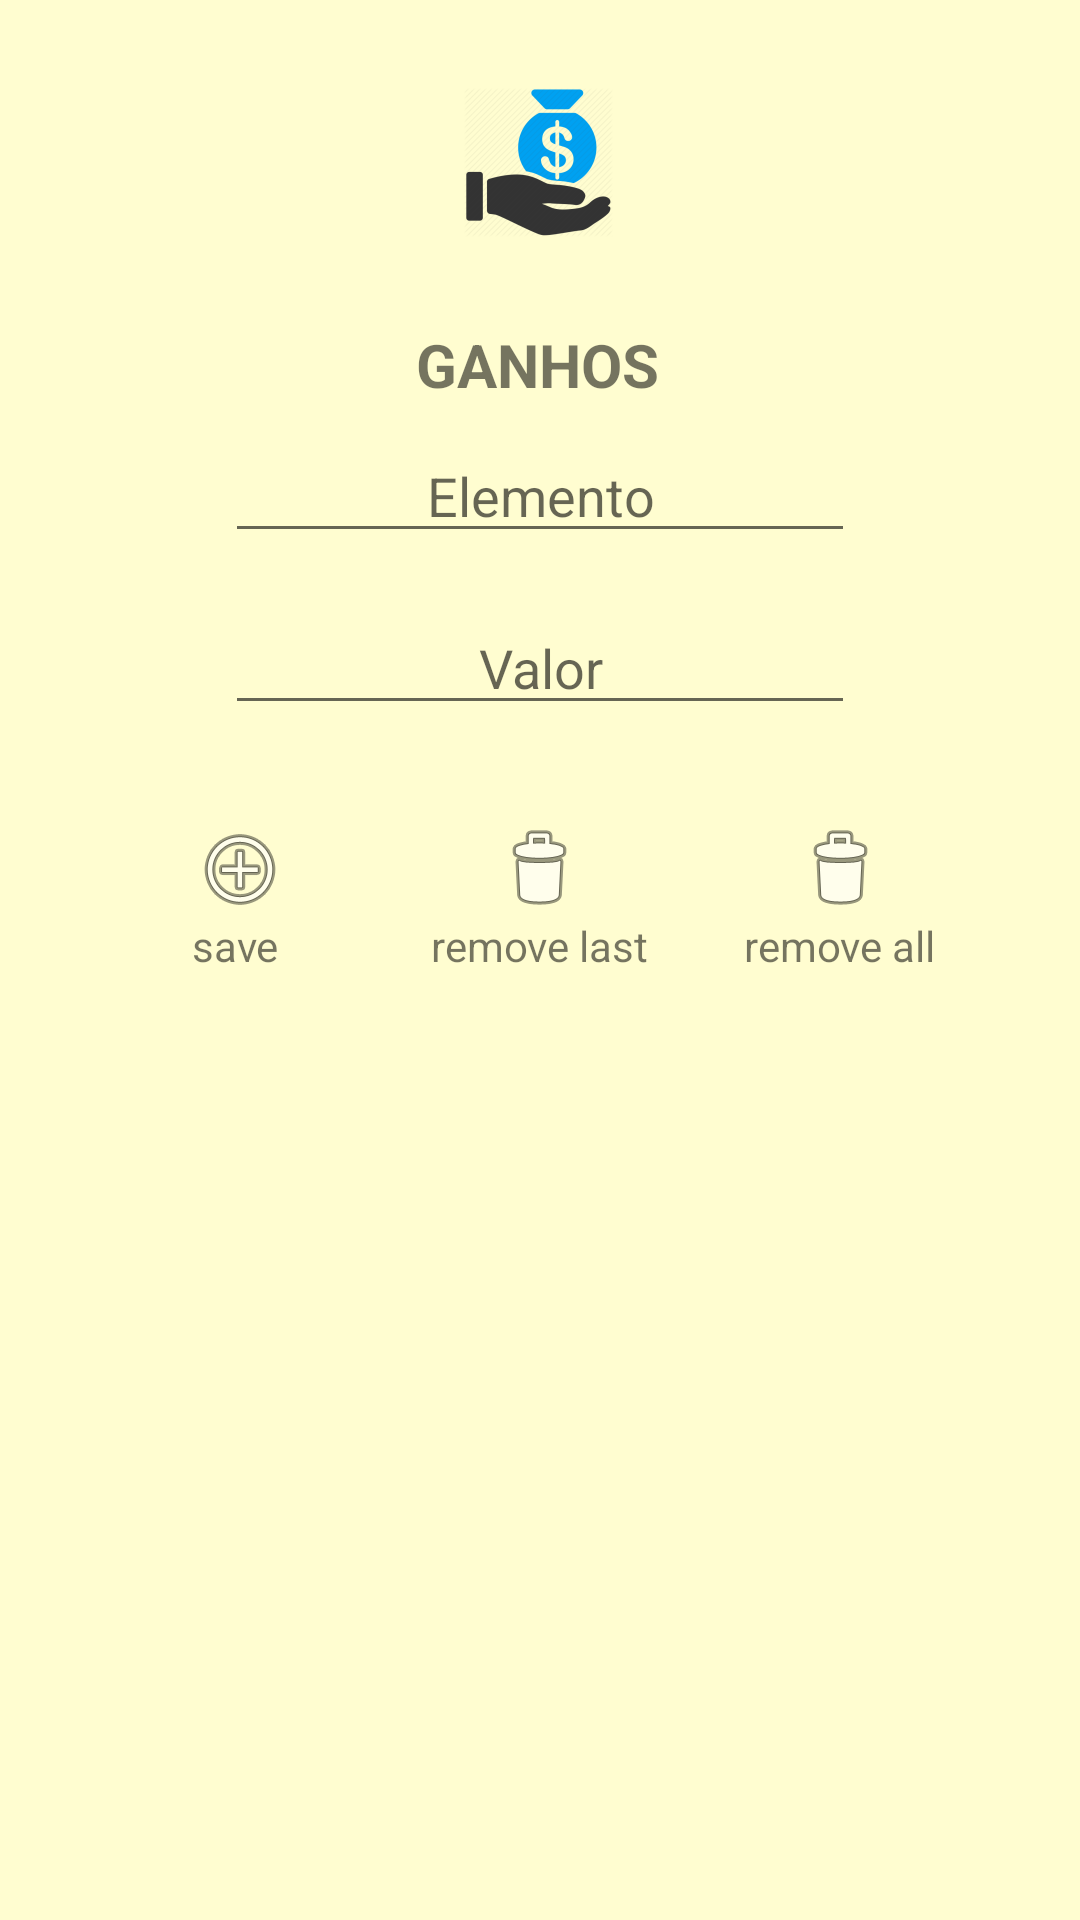

Where icons sit on this 1080*1920 app screen, as (x1, y1, x2, y2):
add: (204, 834, 276, 905)
